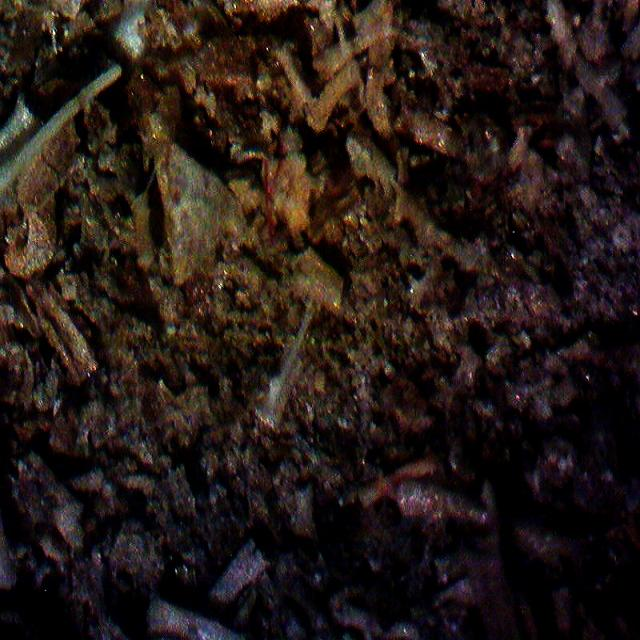microplastic: (242, 135, 286, 244)
